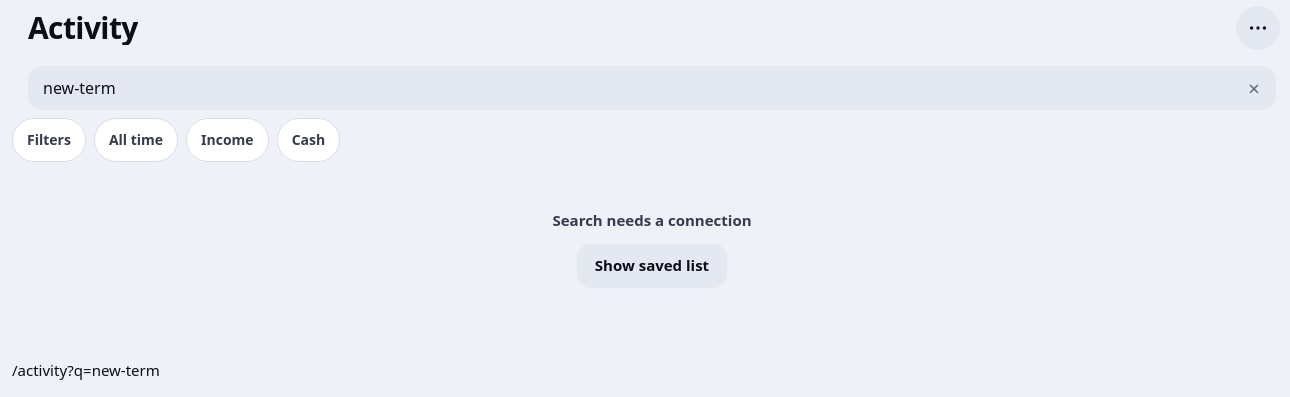
Scenario: Activity feed › offline without a cached result offers the saved list
Expected: the text "Search needs a connection" is shown, [552,210,752,232]
Step 1. Click the button "Show saved list" → (652, 266), box [577,244,727,288]
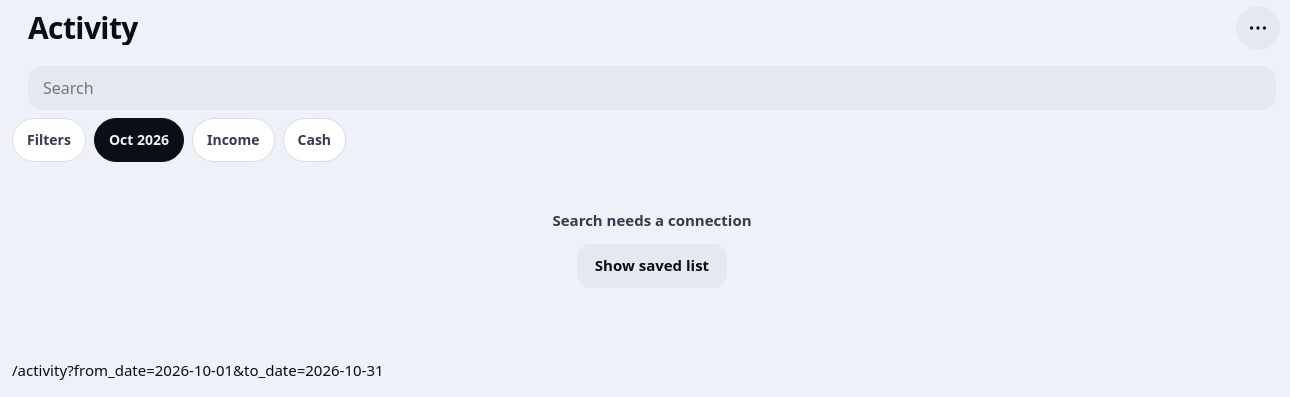
Expected: the text with test id "location" shows "from_date=", [12,360,384,380]
